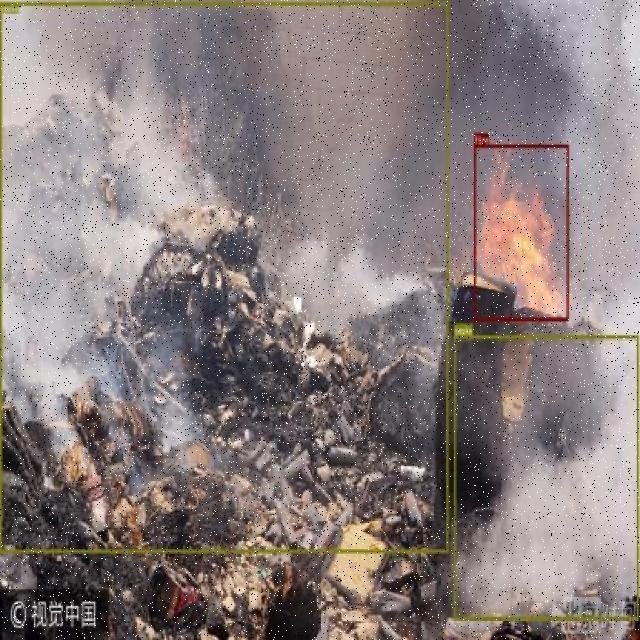smoke: (0, 2, 448, 553), (454, 335, 639, 620)
